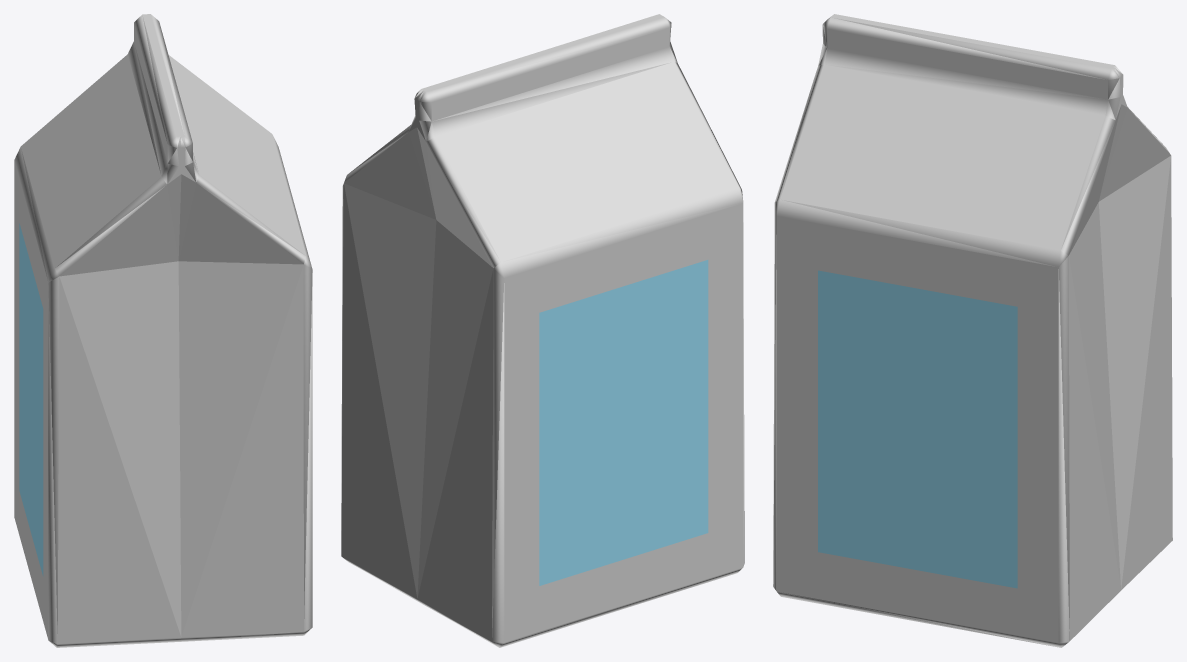
The model's file is susu1.obj.
The picture shows the model from 3 angles, left to right: view 1: azimuth 30°, elevation 25°; view 2: azimuth 150°, elevation 25°; view 3: azimuth 270°, elevation 25°; orthographic projection. The views are drawn at different scales.
Parts seen in each view (by area): view 1: Milk_cartoon.001_Cube.082; view 2: Milk_cartoon.001_Cube.082; view 3: Milk_cartoon.001_Cube.082.
Part boxes in pixels (bbox=[...]): Milk_cartoon.001_Cube.082: bbox=[14, 14, 312, 647]; Milk_cartoon.001_Cube.082: bbox=[341, 14, 744, 647]; Milk_cartoon.001_Cube.082: bbox=[773, 14, 1172, 647].
Bounding box in the file's own units: 0.3626 × 0.5615 × 0.3835.
